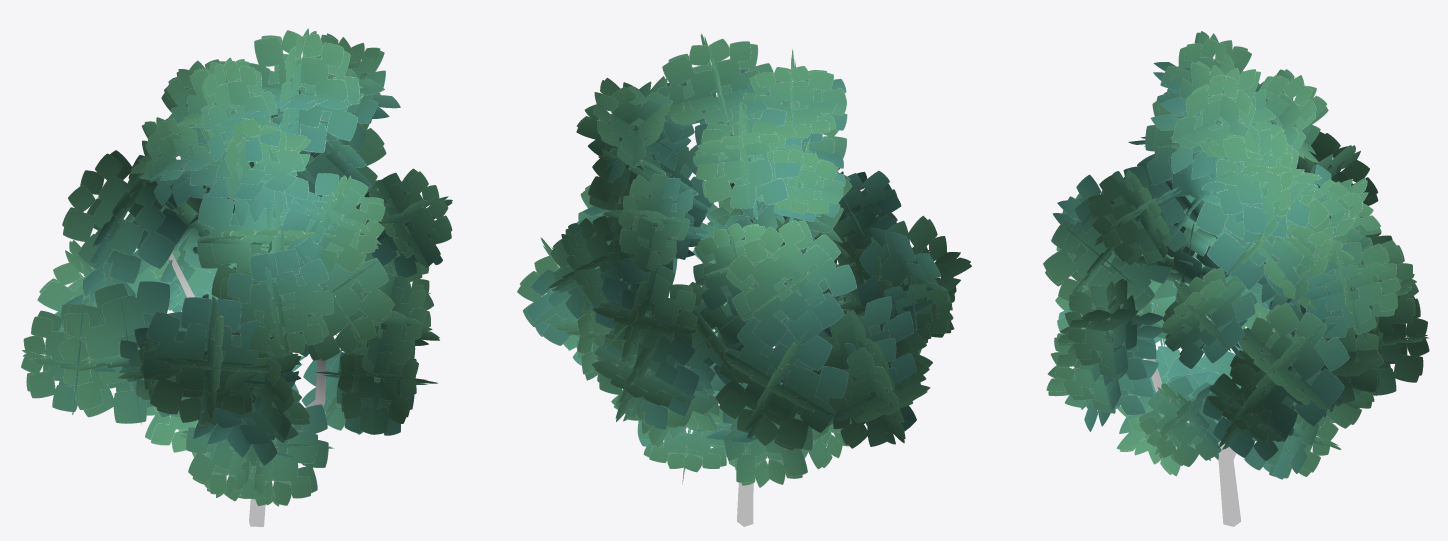
The model's file is TSP_Bush_02A.fbx.
The picture shows the model from 3 angles, left to right: view 1: azimuth 30°, elevation 25°; view 2: azimuth 150°, elevation 25°; view 3: azimuth 270°, elevation 25°; orthographic projection. The views are drawn at different scales.
Parts seen in each view (by area): view 1: TSP_Bush_02A; view 2: TSP_Bush_02A; view 3: TSP_Bush_02A.
Part boxes in pixels (x1,y1,x2,y2): TSP_Bush_02A: (21,28,452,526); TSP_Bush_02A: (517,33,971,526); TSP_Bush_02A: (1043,31,1429,526).
Size of the model in its own units: 1.76 by 1.89 by 1.46.
